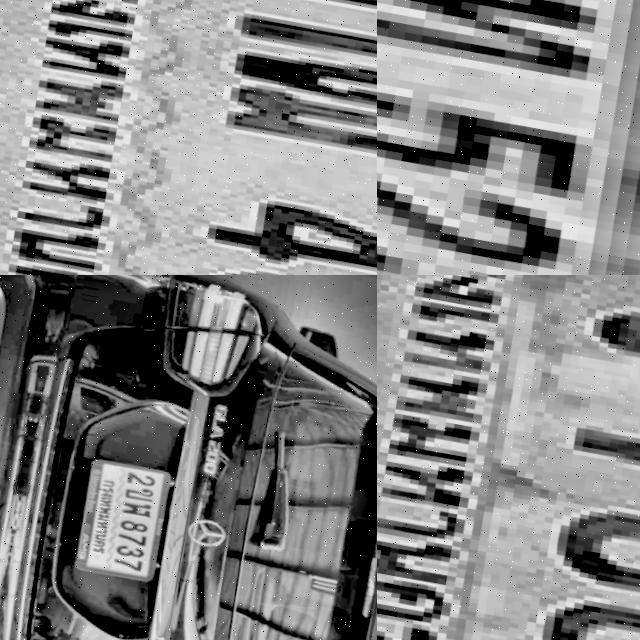license-plate: (0, 0, 377, 275), (377, 275, 640, 640), (377, 0, 640, 275), (64, 456, 173, 585)
